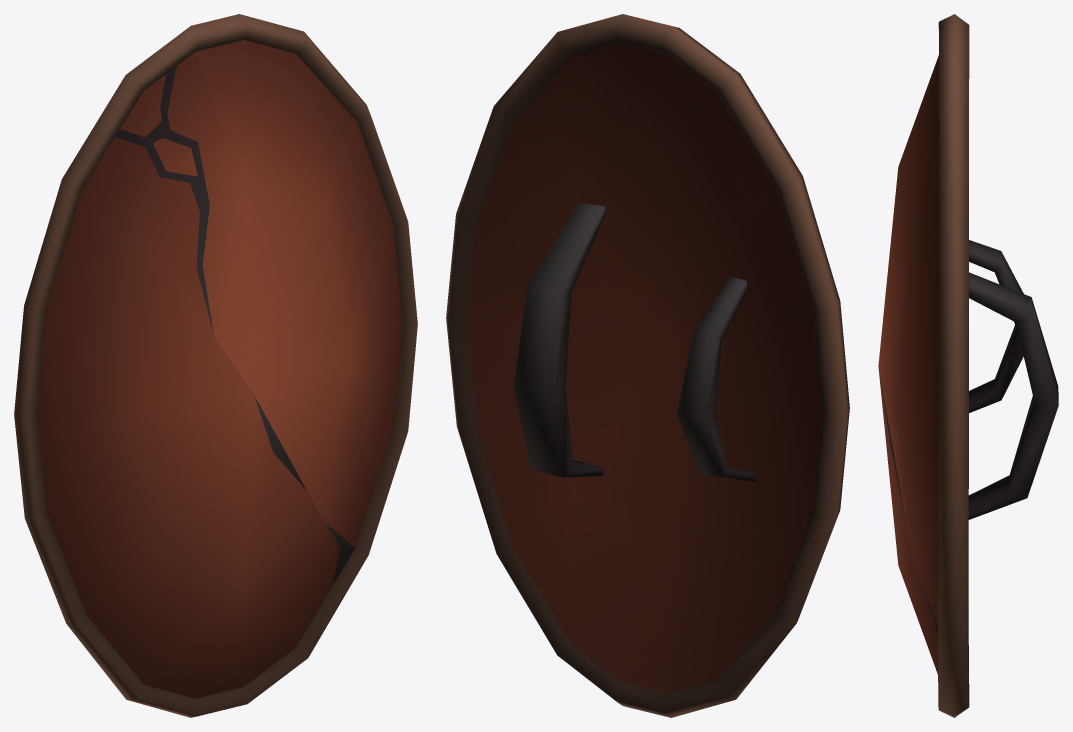
File: Shield_3A.FBX
3 views of the same model, side by side, from view 1: azimuth 30°, elevation 25°; view 2: azimuth 150°, elevation 25°; view 3: azimuth 270°, elevation 25° (orthographic).
Visible parts, largest first — view 1: Shield_3A; view 2: Shield_3A; view 3: Shield_3A.
Boxes of the visible parts, box(x1,y1,x2,y2) form: Shield_3A: box(14, 14, 417, 717); Shield_3A: box(446, 14, 849, 717); Shield_3A: box(878, 14, 1058, 717).
Bounding box in the file's own units: 56.96 × 94.02 × 22.55.
